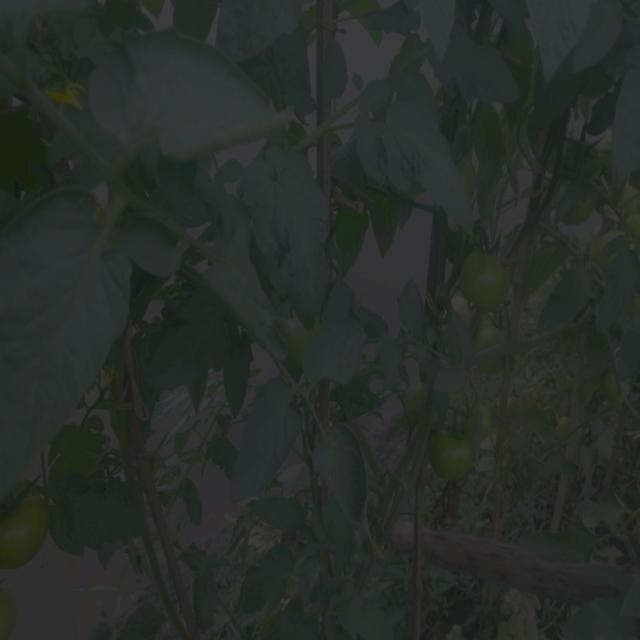tomato: (4, 484, 49, 570), (462, 255, 509, 315), (428, 428, 477, 483), (552, 178, 597, 230), (476, 327, 516, 372), (287, 314, 325, 361), (566, 139, 605, 175), (589, 239, 625, 271), (601, 365, 630, 402), (1, 586, 19, 640), (403, 388, 430, 417), (462, 156, 480, 196), (463, 403, 493, 424), (626, 201, 640, 238), (558, 412, 573, 442)
